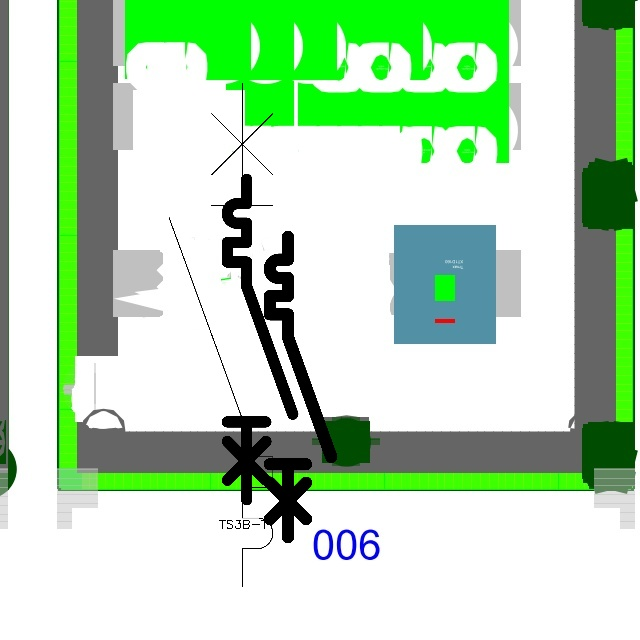interruptor_termomagnetico: (156, 70, 286, 600), (219, 171, 301, 508), (262, 229, 339, 545)
